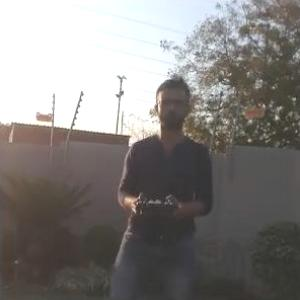follow: (104, 70, 218, 299)
